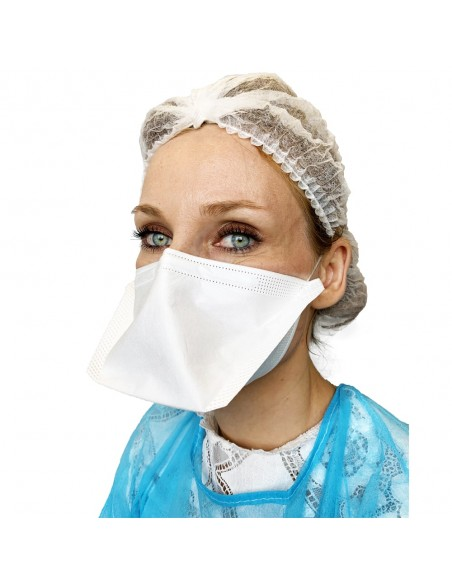with_mask: (138, 175, 295, 376)
